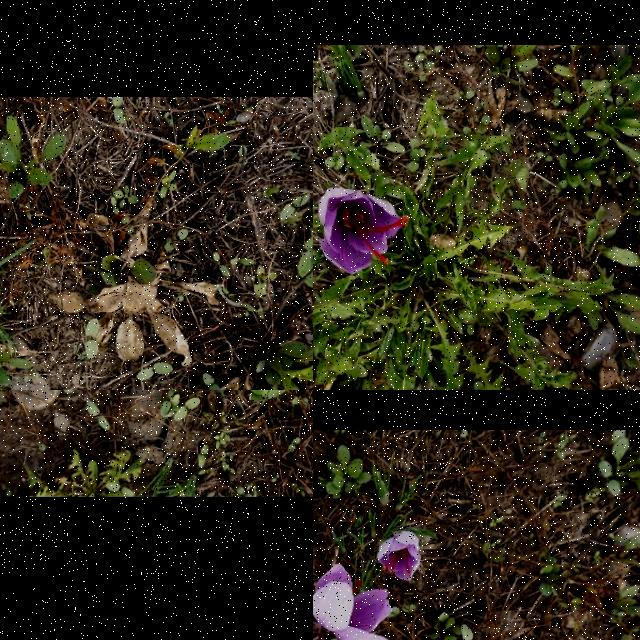flower: (318, 187, 410, 276), (313, 564, 393, 640), (378, 532, 422, 580)
